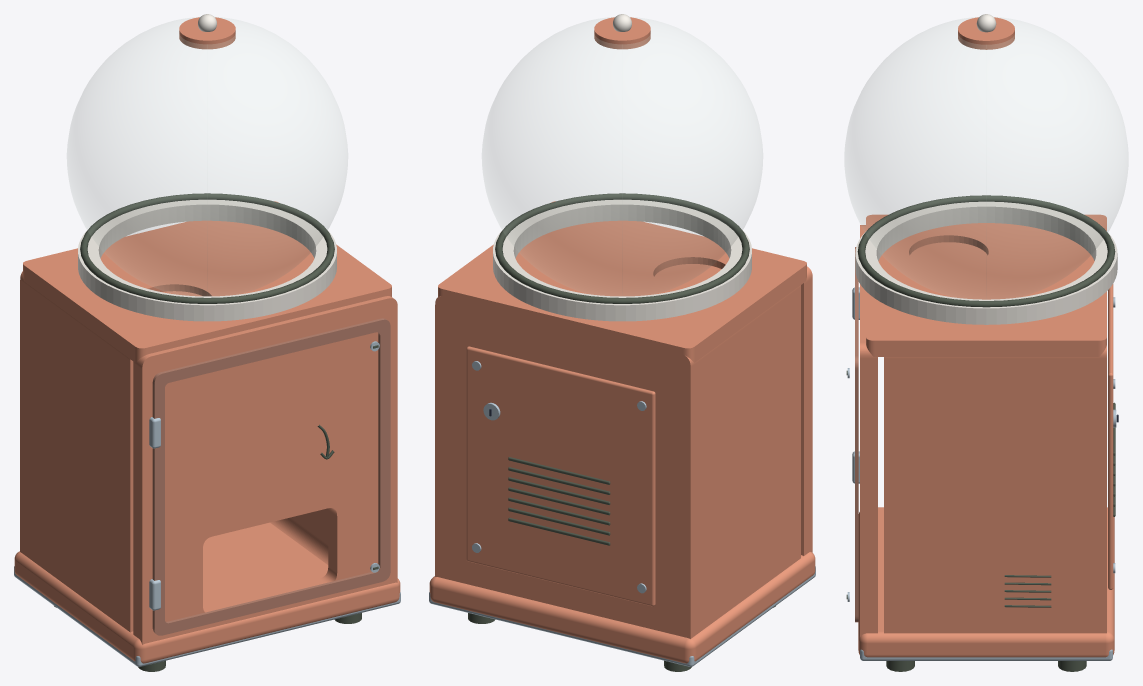
Rendered from machine-friends.prefab.glb.
3 views of the same model, side by side, from view 1: azimuth 30°, elevation 25°; view 2: azimuth 150°, elevation 25°; view 3: azimuth 270°, elevation 25° (orthographic).
Parts seen in each view (by area): view 1: CabinetShell_Batch0, CabinetShell_Batch2, CabinetShell_Batch1; view 2: CabinetShell_Batch0, CabinetShell_Batch2, CabinetShell_Batch1; view 3: CabinetShell_Batch0, CabinetShell_Batch2, CabinetShell_Batch1.
Part boxes in pixels (x1,y1,x2,y2): CabinetShell_Batch0: (14,14,400,671); CabinetShell_Batch2: (67,18,347,295); CabinetShell_Batch1: (14,341,400,666); CabinetShell_Batch0: (429,14,815,671); CabinetShell_Batch2: (482,18,762,295); CabinetShell_Batch1: (429,361,815,666); CabinetShell_Batch0: (846,14,1118,671); CabinetShell_Batch2: (845,18,1127,299); CabinetShell_Batch1: (847,287,1116,660).
Bounding box in the file's own units: 0.206 × 0.4415 × 0.1889.
Materials: 3 (3 with a texture image).
